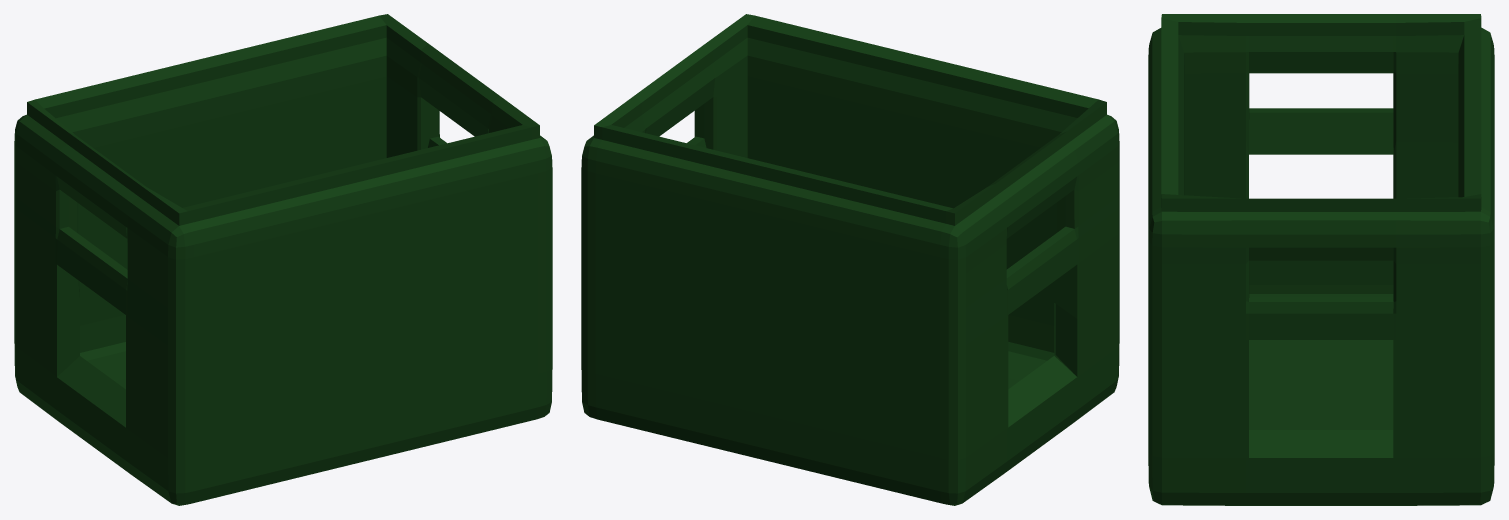
The model's file is kasta1.fbx.
3 renders of one model, left to right at view 1: azimuth 30°, elevation 25°; view 2: azimuth 150°, elevation 25°; view 3: azimuth 270°, elevation 25°, orthographic. The views are drawn at different scales.
Parts seen in each view (by area): view 1: kasta2; view 2: kasta2; view 3: kasta2.
Boxes of the visible parts, box(x1,y1,x2,y2) form: kasta2: box(14, 14, 552, 505); kasta2: box(581, 14, 1119, 505); kasta2: box(1148, 14, 1494, 505).
Bounding box in the file's own units: 42.02 × 30.73 × 31.3.
